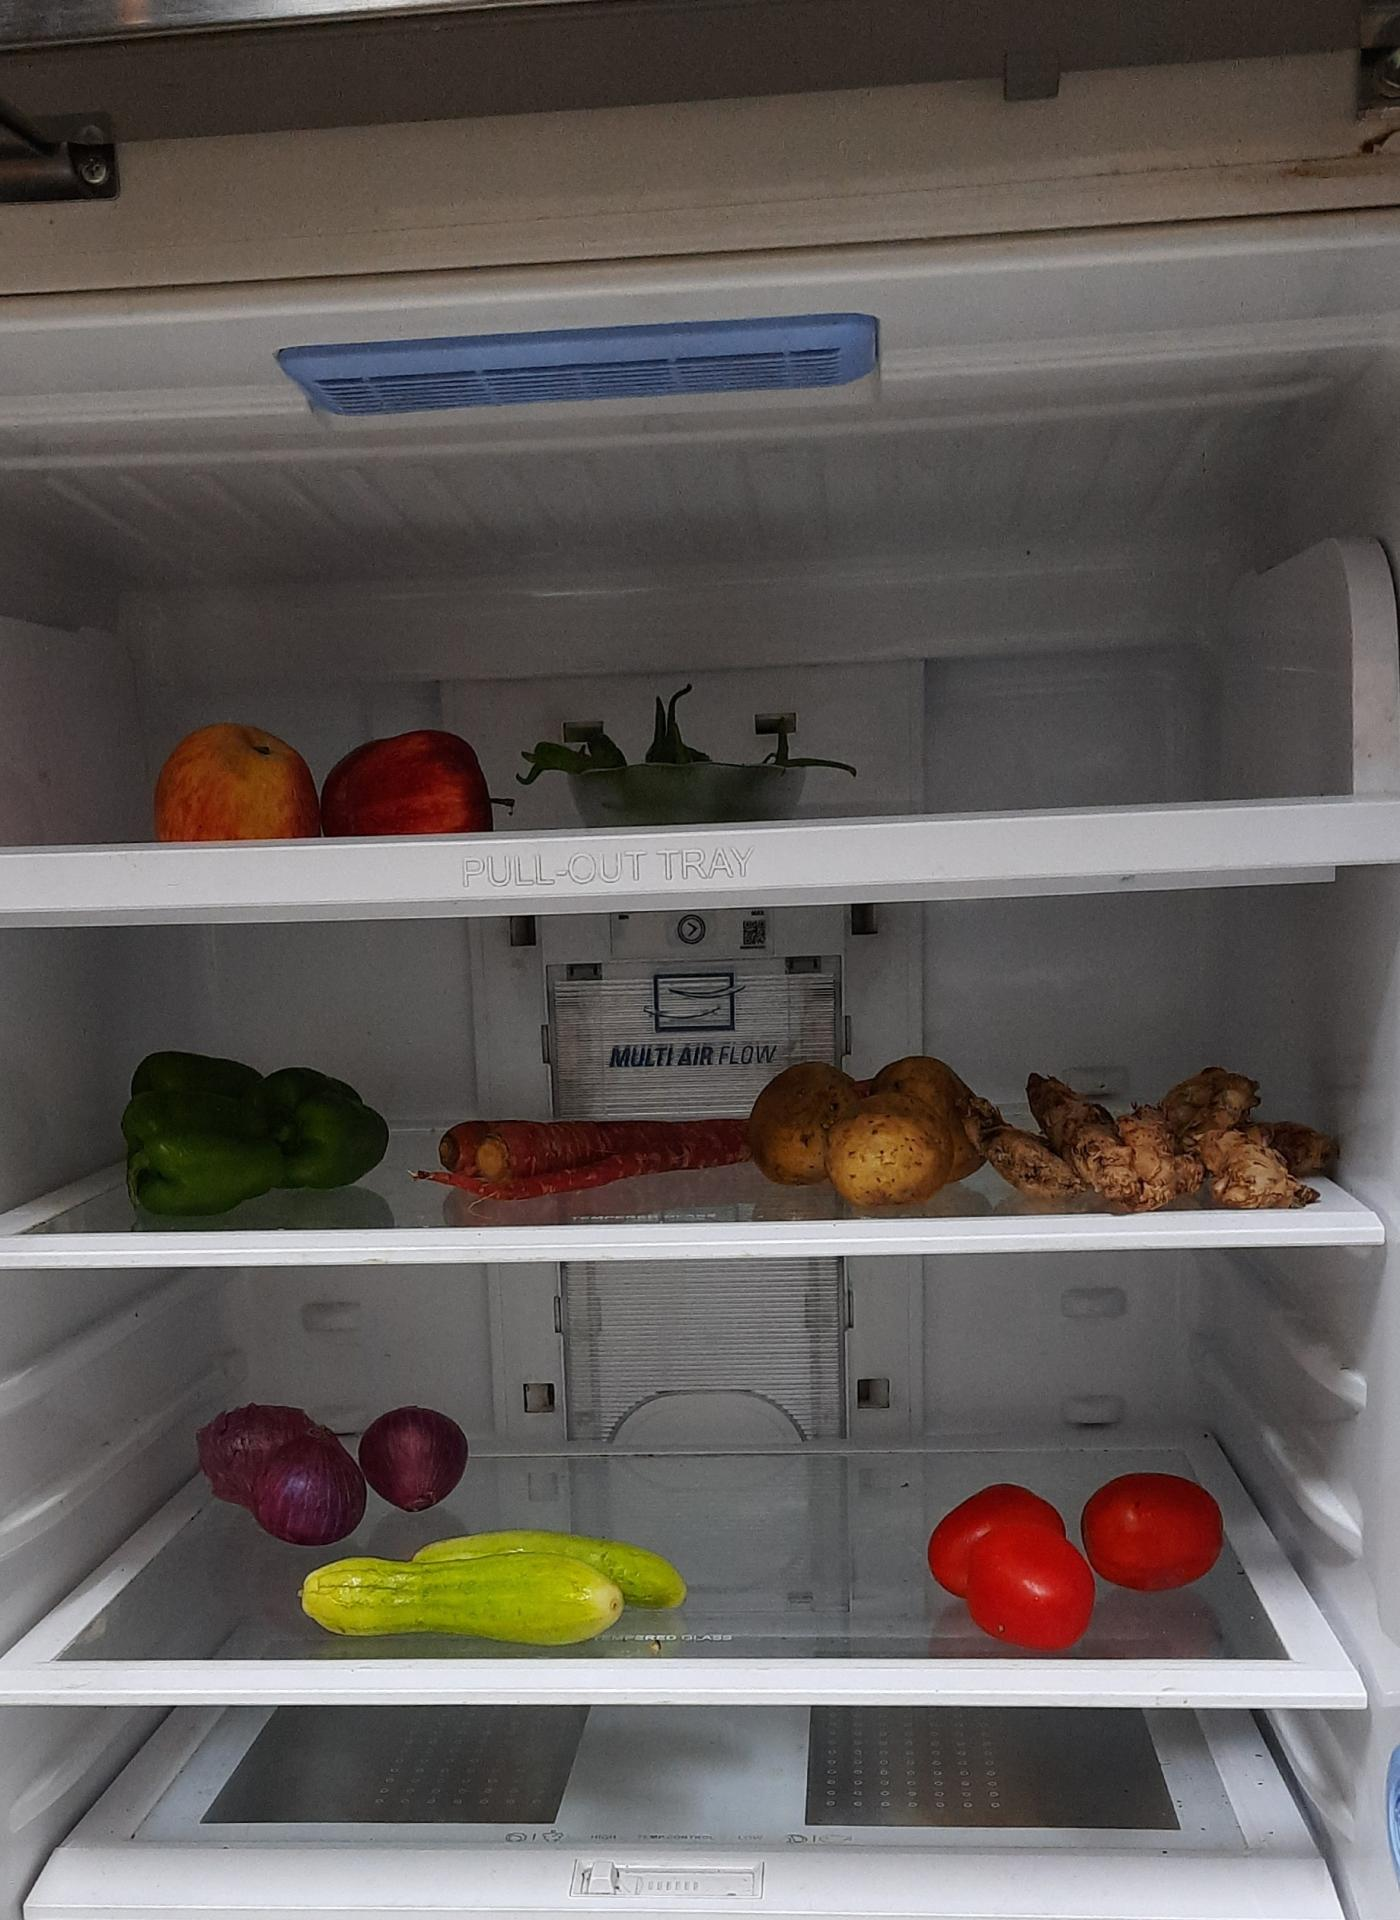apple: (154, 727, 498, 841)
capsicum: (118, 1046, 398, 1218)
carrots: (431, 1106, 759, 1203)
chillies: (511, 690, 826, 793)
cucumber: (298, 1531, 695, 1644)
ginger: (1000, 1076, 1343, 1222)
onion: (197, 1400, 470, 1543)
potato: (744, 1049, 999, 1196)
tomato: (927, 1470, 1226, 1641), (1082, 1468, 1229, 1588)
